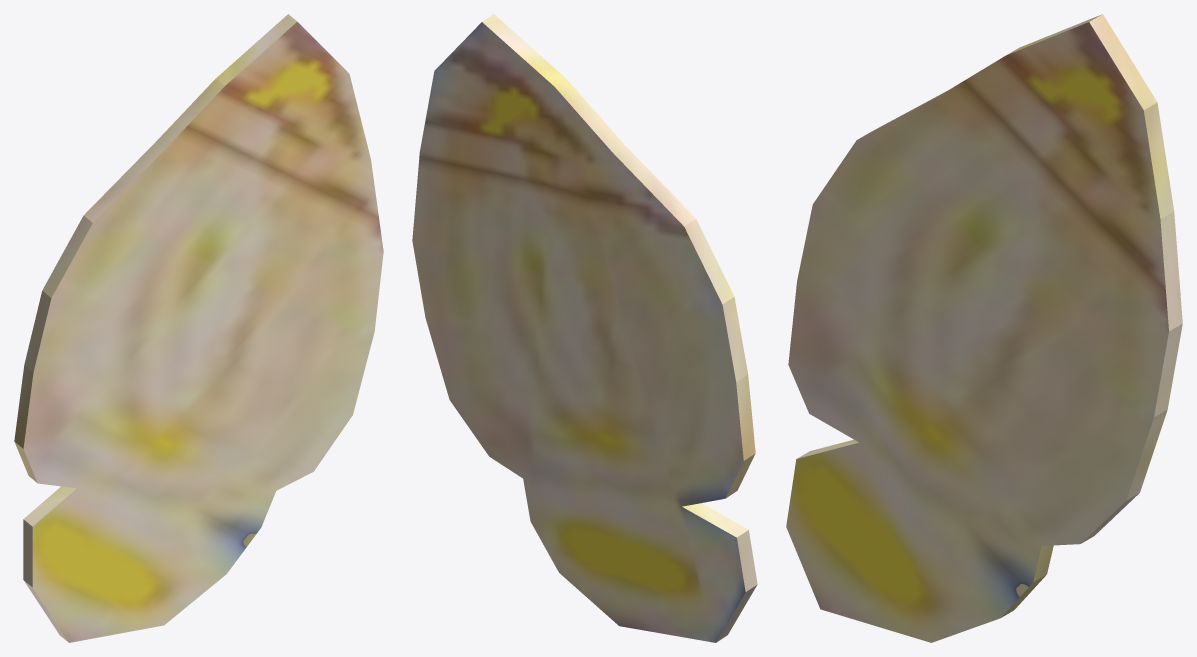
Rendered from Balao3.fbx.
The picture shows the model from 3 angles, left to right: view 1: azimuth 30°, elevation 25°; view 2: azimuth 150°, elevation 25°; view 3: azimuth 330°, elevation 25°; orthographic projection. The views are drawn at different scales.
Parts seen in each view (by area): view 1: Circle.004; view 2: Circle.004; view 3: Circle.004.
Boxes of the visible parts, <box> form: Circle.004: <box>14,14,383,642</box>; Circle.004: <box>412,14,757,642</box>; Circle.004: <box>786,14,1182,642</box>.
Bounding box in the file's own units: 21.37 × 33.62 × 3.55.
1 material, 1 textured.
